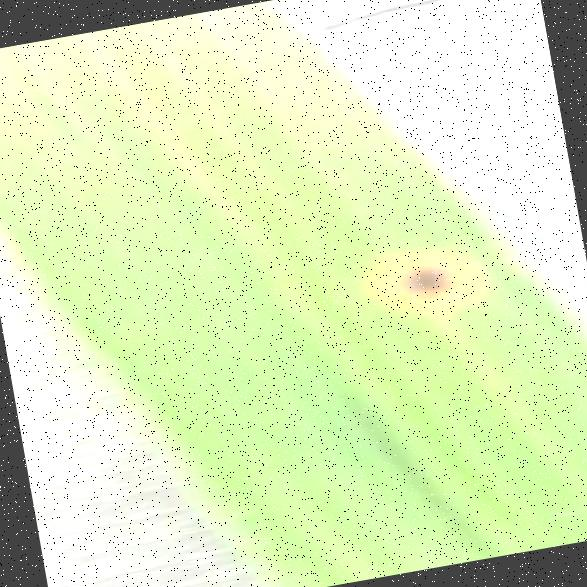Brown_Spot: (348, 223, 484, 331)
